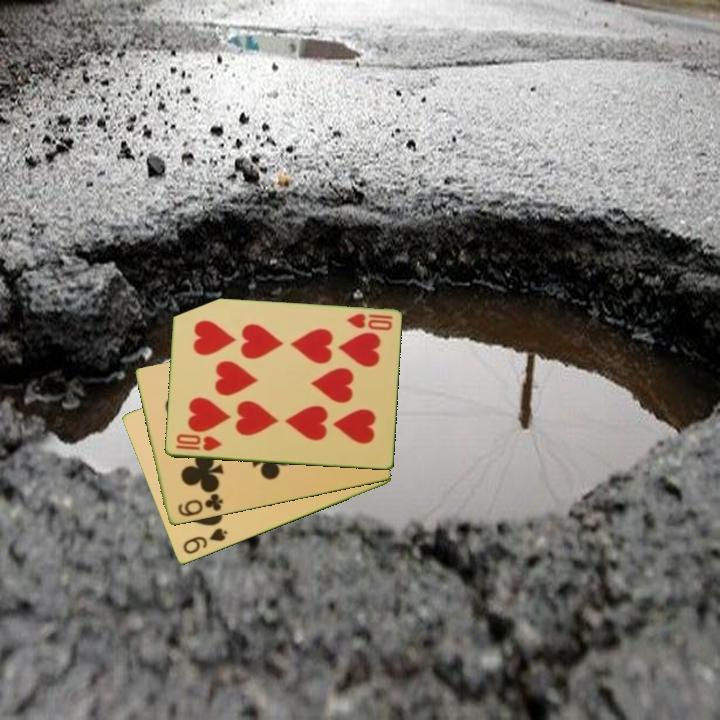10h: (343, 310, 395, 334), (172, 431, 225, 454)
6c: (174, 490, 226, 520)
9s: (179, 525, 230, 557)
